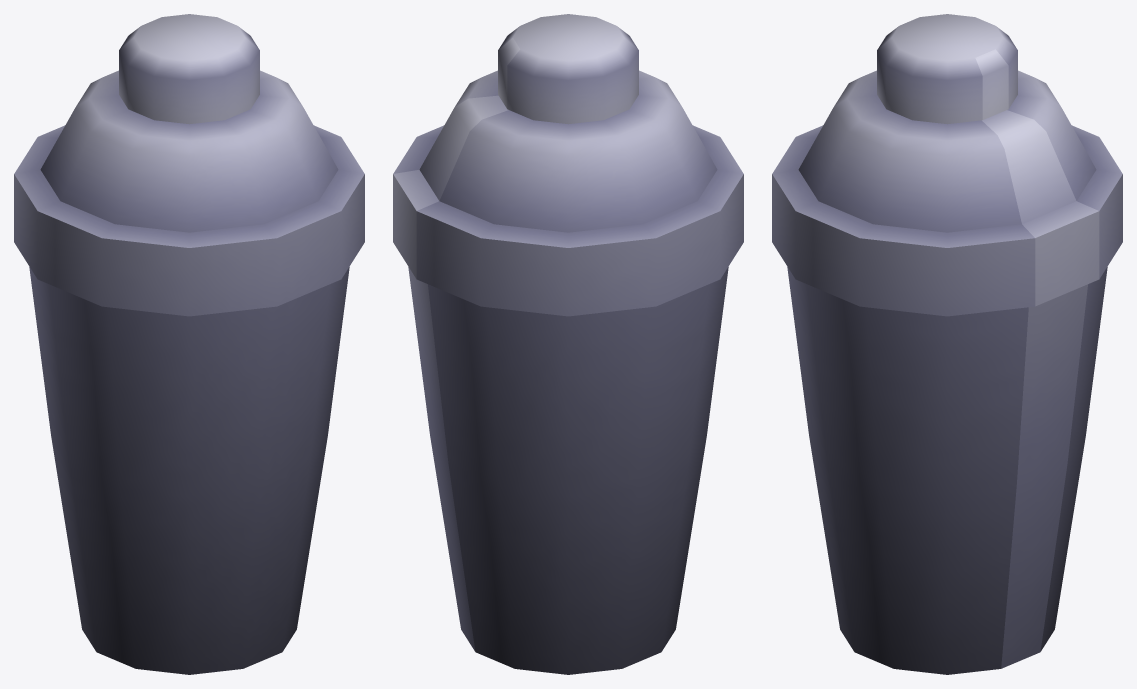
File: m_CocktailShaker01.fbx
The picture shows the model from 3 angles, left to right: view 1: azimuth 30°, elevation 25°; view 2: azimuth 150°, elevation 25°; view 3: azimuth 270°, elevation 25°; orthographic projection.
Visible parts, largest first — view 1: m_CocktailShaker01, m_CocktailShaker01_Lid, m_CocktailShaker01_Cap01; view 2: m_CocktailShaker01, m_CocktailShaker01_Lid, m_CocktailShaker01_Cap01; view 3: m_CocktailShaker01, m_CocktailShaker01_Lid, m_CocktailShaker01_Cap01.
Part boxes in pixels (left/top/right/bottom): m_CocktailShaker01: left=29, top=267, right=349, bottom=674; m_CocktailShaker01_Lid: left=14, top=70, right=364, bottom=316; m_CocktailShaker01_Cap01: left=119, top=14, right=259, bottom=124; m_CocktailShaker01: left=408, top=267, right=728, bottom=674; m_CocktailShaker01_Lid: left=393, top=70, right=743, bottom=316; m_CocktailShaker01_Cap01: left=498, top=14, right=638, bottom=124; m_CocktailShaker01: left=787, top=267, right=1107, bottom=674; m_CocktailShaker01_Lid: left=772, top=70, right=1122, bottom=316; m_CocktailShaker01_Cap01: left=877, top=14, right=1017, bottom=124.
Size of the model in its own units: 13.96 by 25.99 by 13.96.
